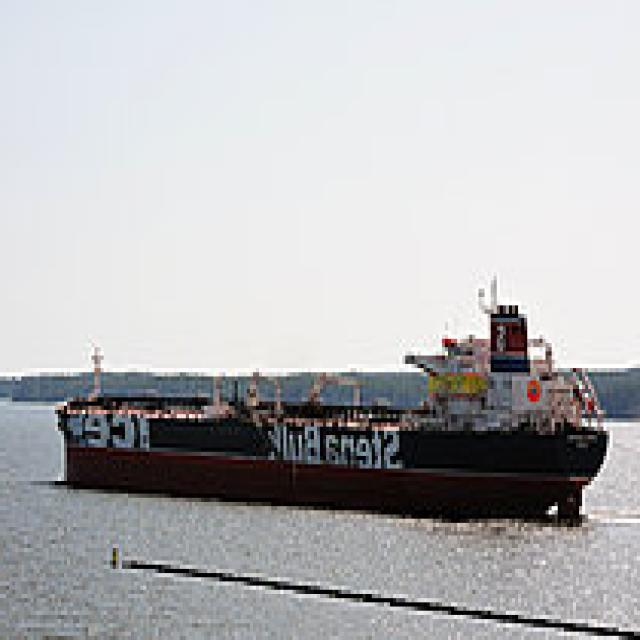Tanker: (52, 264, 616, 514)
